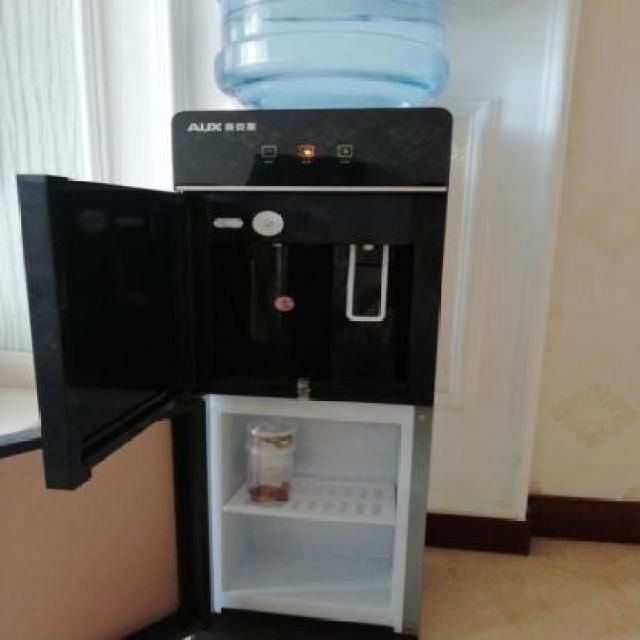cooler: (169, 0, 461, 640)
